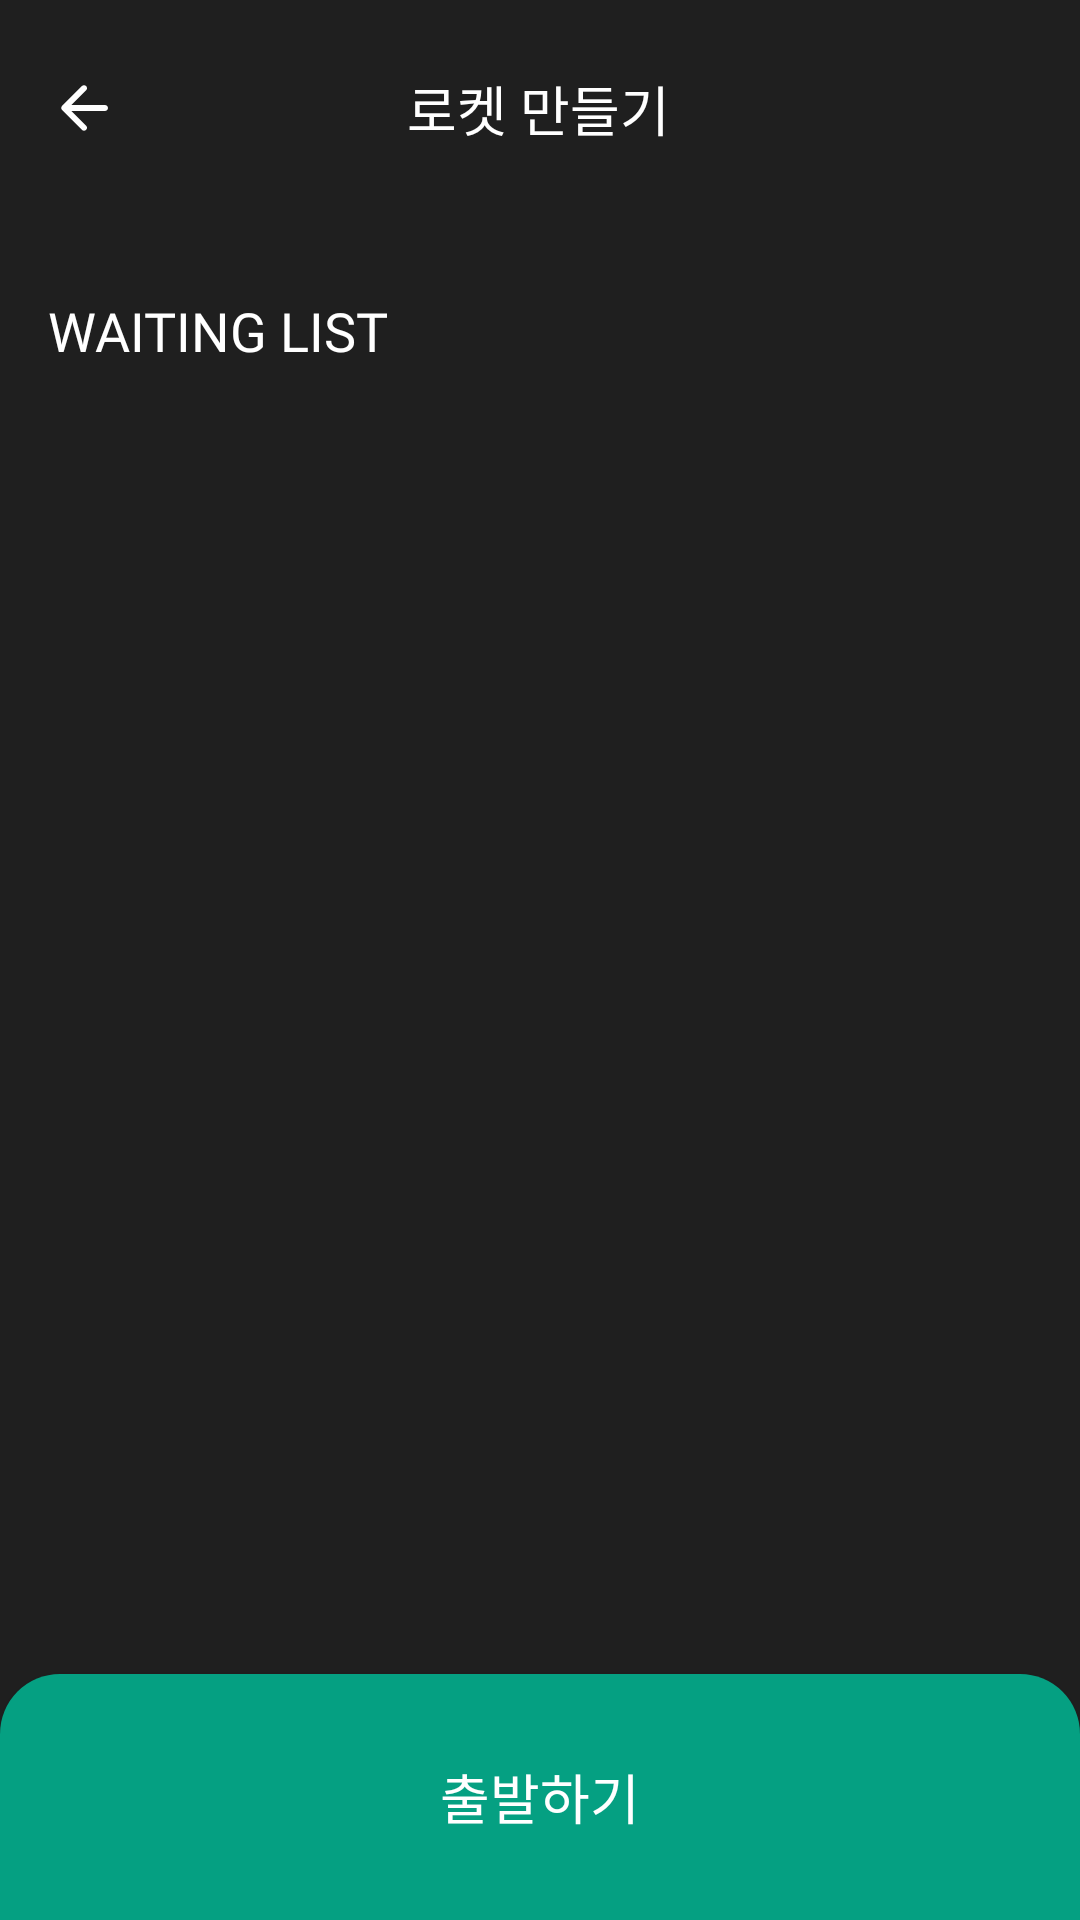

Icon click points for this 1080w x 1920h phone screenshot, format [x,y]:
back: [84,108]
